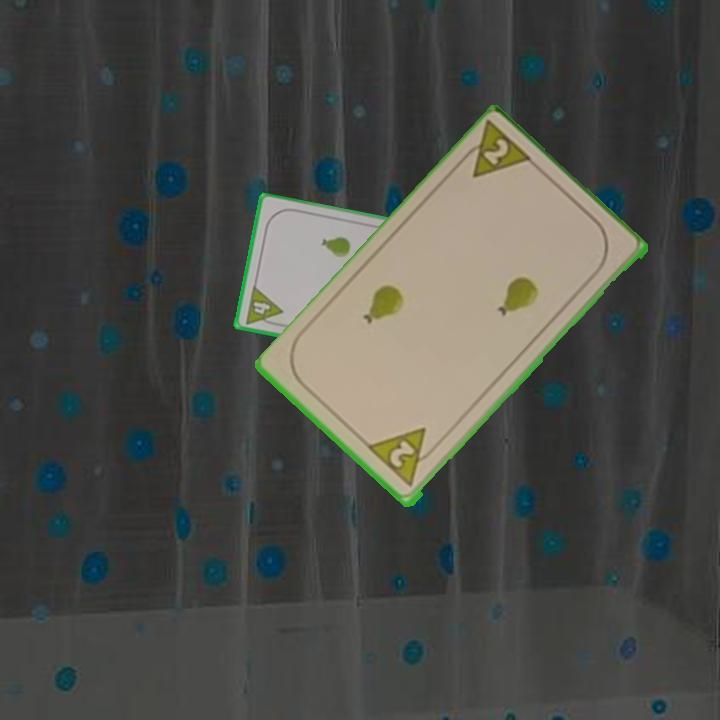2p: (454, 118, 537, 182), (385, 437, 418, 471)
4p: (241, 283, 285, 329)
